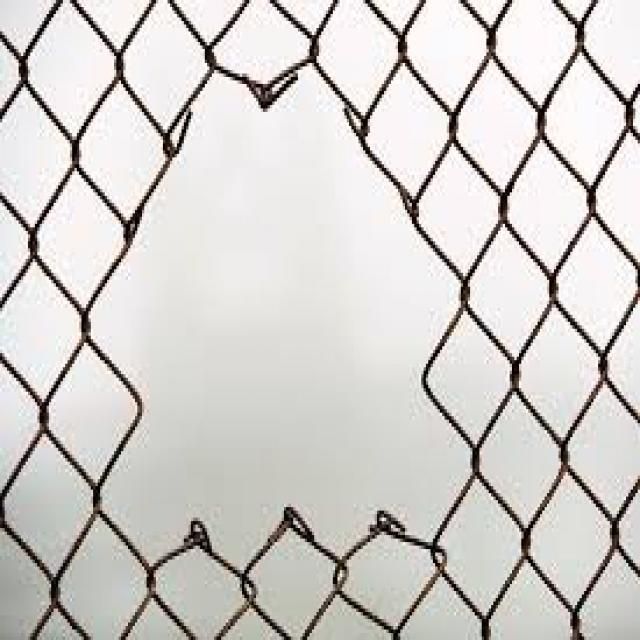fence line: (111, 58, 458, 572)
